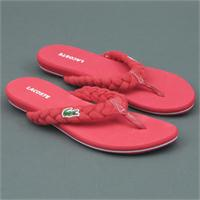shoe: (5, 77, 180, 155), (38, 44, 196, 115)
